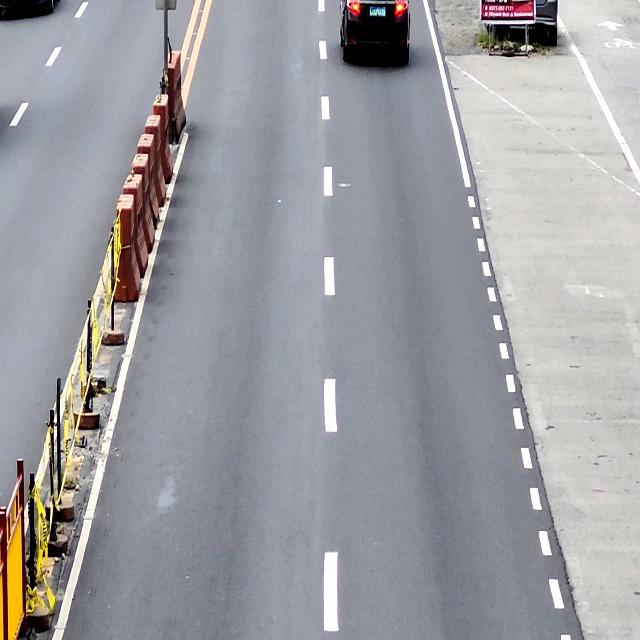Car: (339, 0, 410, 66)
License-Plate: (369, 6, 386, 18)
